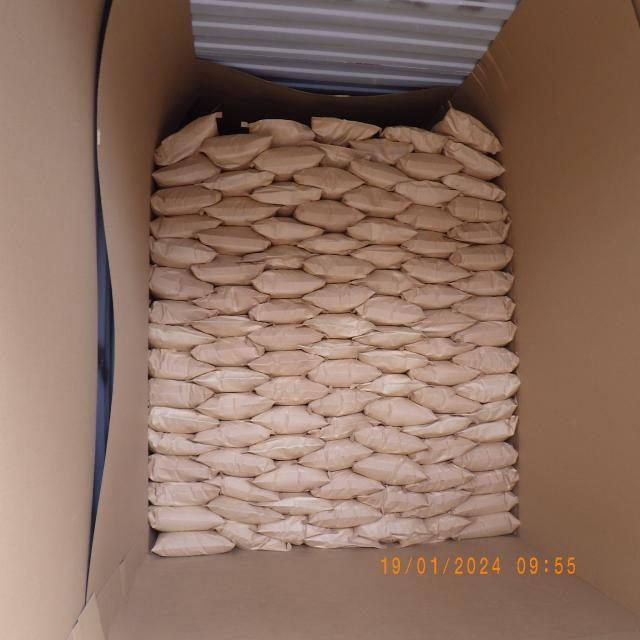gunny_bag: (154, 112, 220, 166), (430, 107, 502, 155), (443, 140, 505, 183), (202, 133, 272, 171), (298, 437, 374, 472), (251, 180, 323, 216), (256, 514, 336, 546), (352, 451, 425, 486), (254, 146, 324, 182), (216, 519, 292, 552), (254, 460, 330, 493), (206, 493, 284, 525), (196, 447, 276, 478), (292, 166, 362, 201), (293, 199, 365, 233), (351, 424, 426, 456), (152, 154, 222, 188), (341, 184, 411, 218), (150, 184, 222, 217), (191, 254, 265, 286), (402, 461, 476, 493), (193, 284, 269, 315), (149, 264, 214, 300), (304, 499, 382, 529), (311, 468, 384, 500), (190, 336, 264, 367), (204, 196, 278, 227), (307, 387, 381, 418), (254, 375, 330, 405), (352, 513, 428, 543), (148, 348, 217, 381), (353, 295, 426, 326), (205, 472, 280, 502), (251, 404, 326, 434), (250, 269, 325, 299), (363, 396, 438, 426), (402, 308, 477, 338), (149, 237, 217, 270), (152, 530, 235, 557), (347, 214, 417, 246), (302, 282, 374, 313), (196, 226, 270, 256), (307, 358, 381, 388), (302, 254, 376, 284), (408, 434, 477, 466), (196, 392, 274, 420), (395, 202, 463, 234), (397, 489, 472, 518), (450, 441, 520, 472), (356, 484, 428, 514), (148, 378, 215, 410), (148, 452, 219, 482), (299, 140, 370, 170), (410, 384, 481, 414), (450, 511, 521, 541), (195, 420, 271, 448), (302, 312, 378, 340), (250, 216, 323, 245), (310, 412, 380, 442), (310, 116, 380, 146), (348, 159, 413, 191), (193, 366, 270, 393), (248, 434, 325, 461), (148, 504, 222, 532), (248, 323, 322, 351), (248, 349, 324, 376), (440, 172, 506, 203), (148, 322, 216, 352), (396, 152, 464, 182), (349, 269, 424, 296), (148, 406, 220, 434), (408, 358, 480, 386), (147, 428, 218, 456), (250, 118, 316, 148), (454, 372, 520, 402), (400, 230, 470, 258), (355, 372, 433, 397), (202, 170, 274, 197), (402, 256, 471, 284), (248, 298, 322, 324), (241, 244, 315, 270), (392, 180, 460, 208), (452, 346, 520, 374), (148, 299, 218, 326), (348, 138, 415, 166), (401, 414, 476, 439), (401, 284, 473, 310), (258, 491, 332, 516), (406, 514, 472, 542), (454, 466, 520, 494), (358, 348, 429, 374), (450, 491, 520, 517), (352, 325, 424, 350), (190, 314, 268, 337), (382, 126, 446, 154), (455, 415, 519, 443), (147, 482, 220, 506), (296, 232, 369, 256), (349, 244, 419, 269), (150, 215, 222, 239), (449, 243, 513, 270), (452, 398, 518, 424), (450, 296, 516, 322), (302, 338, 376, 361), (403, 336, 476, 359), (304, 527, 380, 549), (450, 270, 514, 296), (452, 321, 516, 346), (447, 220, 511, 244), (446, 198, 509, 222)
